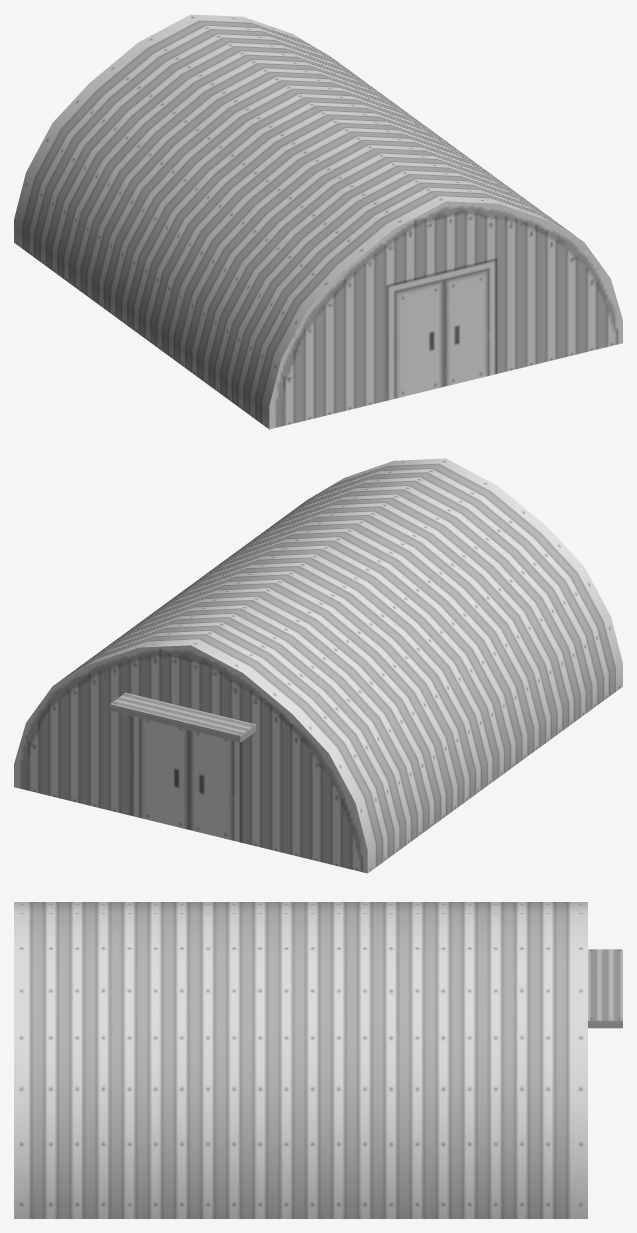
Rendered from Ware_House_001.FBX.
The picture shows the model from 3 angles, top to bottom: view 1: azimuth 30°, elevation 25°; view 2: azimuth 150°, elevation 25°; view 3: azimuth 270°, elevation 25°; orthographic projection. The views are drawn at different scales.
Visible parts, largest first — view 1: Ware_House_001; view 2: Ware_House_001; view 3: Ware_House_001.
Boxes of the visible parts, x1,y1,x2,y2 form: Ware_House_001: [14, 14, 622, 429]; Ware_House_001: [14, 458, 622, 873]; Ware_House_001: [14, 902, 622, 1218].
Size of the model in its own units: 800 by 1061 by 400.
